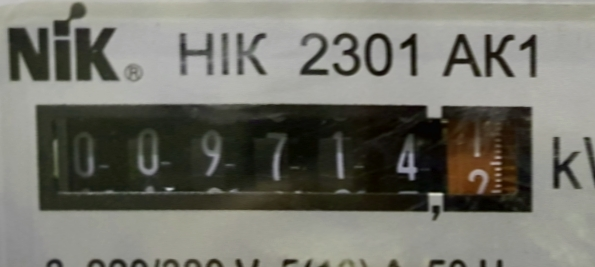0: (70, 129, 99, 183), (135, 126, 161, 179)
1: (329, 128, 352, 183), (470, 119, 484, 161)
2: (467, 167, 491, 197)
4: (394, 132, 422, 186)
7: (264, 131, 290, 185)
9: (197, 128, 225, 181)
screen: (22, 89, 550, 234)
